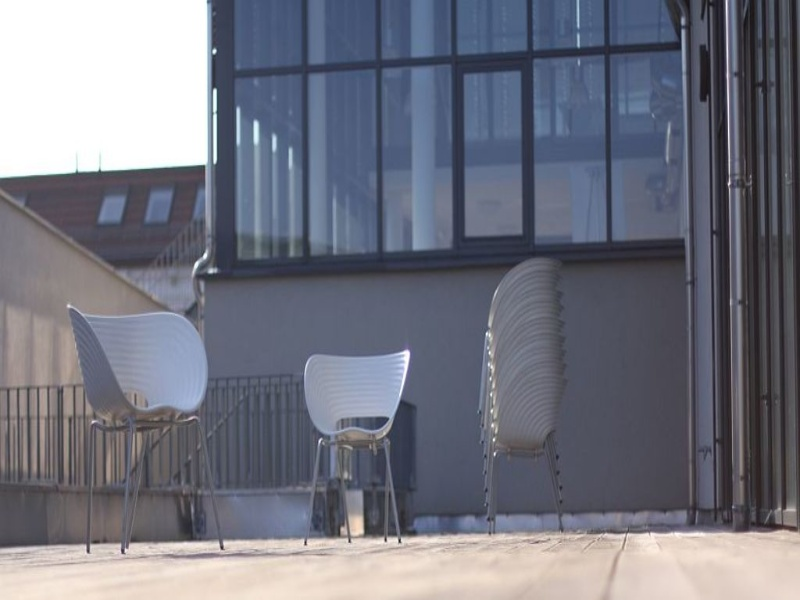chair: (57, 297, 239, 549), (475, 251, 590, 537), (293, 346, 416, 543)
